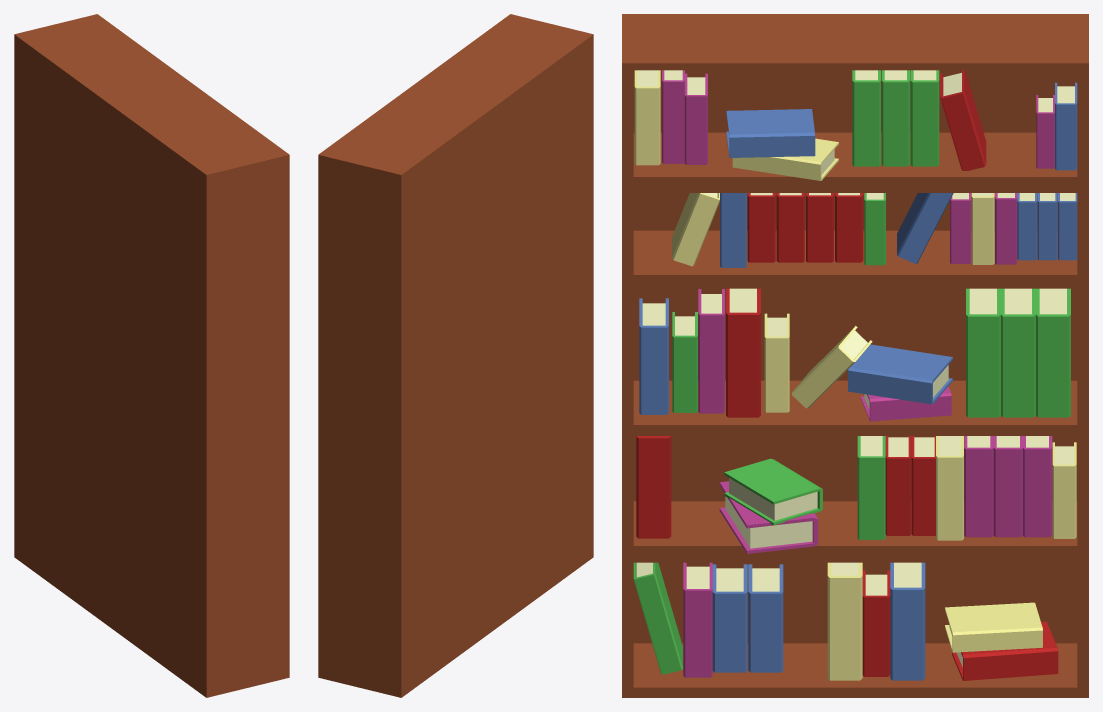
Rendered from bookshelve.glb.
The picture shows the model from 3 angles, left to right: view 1: azimuth 30°, elevation 25°; view 2: azimuth 150°, elevation 25°; view 3: azimuth 270°, elevation 25°; orthographic projection. The views are drawn at different scales.
Parts seen in each view (by area): view 1: bookshelve_merged.001; view 2: bookshelve_merged.001; view 3: bookshelve_merged.001.
Part boxes in pixels (x1,y1,x2,y2): bookshelve_merged.001: (14, 14, 289, 697); bookshelve_merged.001: (318, 14, 593, 697); bookshelve_merged.001: (622, 14, 1088, 697).
Bounding box in the file's own units: 0.3512 × 1.8 × 1.2.
